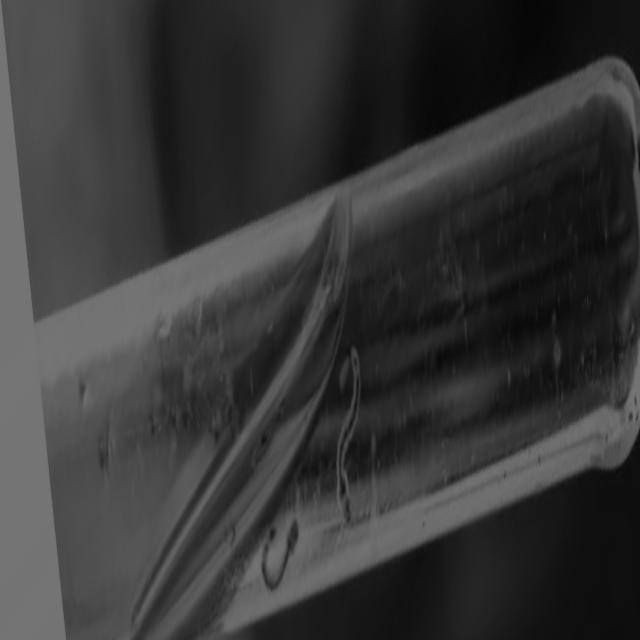larvas: (336, 345, 360, 523), (262, 521, 298, 589)
